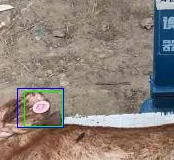text: (24, 91, 62, 126)
